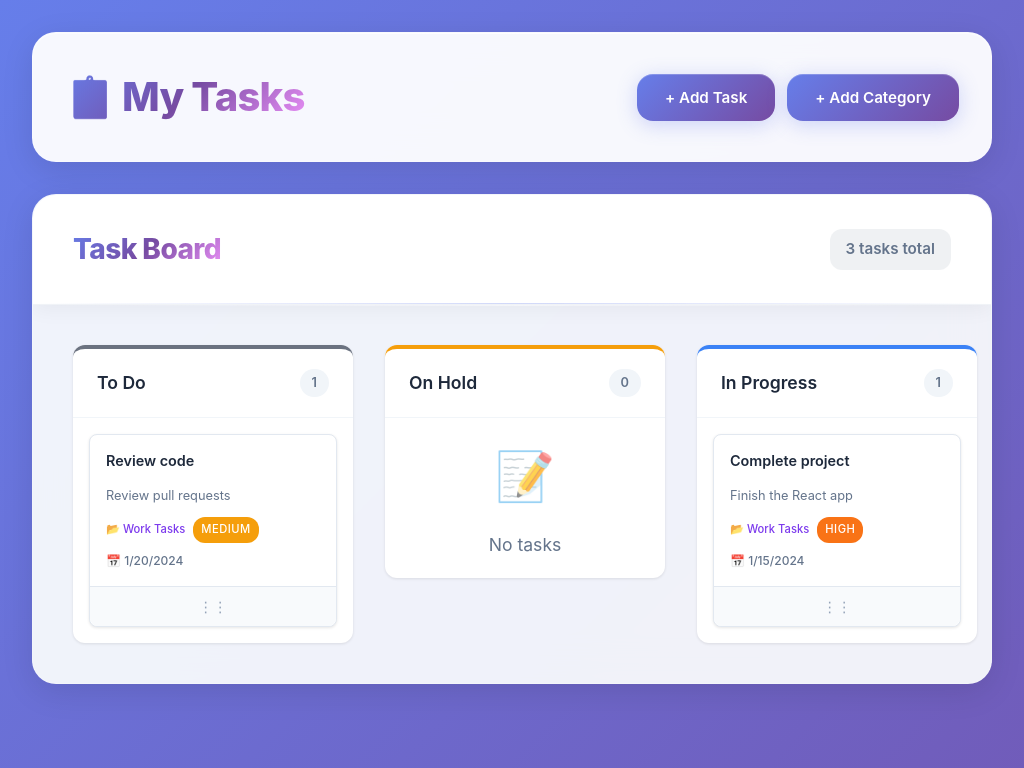
Test: Dashboard › should show add category form when Add Category button is clicked
The width and height of the screenshot is (1024, 768).
Step 1. Click the button "+ Add Category" → (873, 97), box [787,74,959,120]
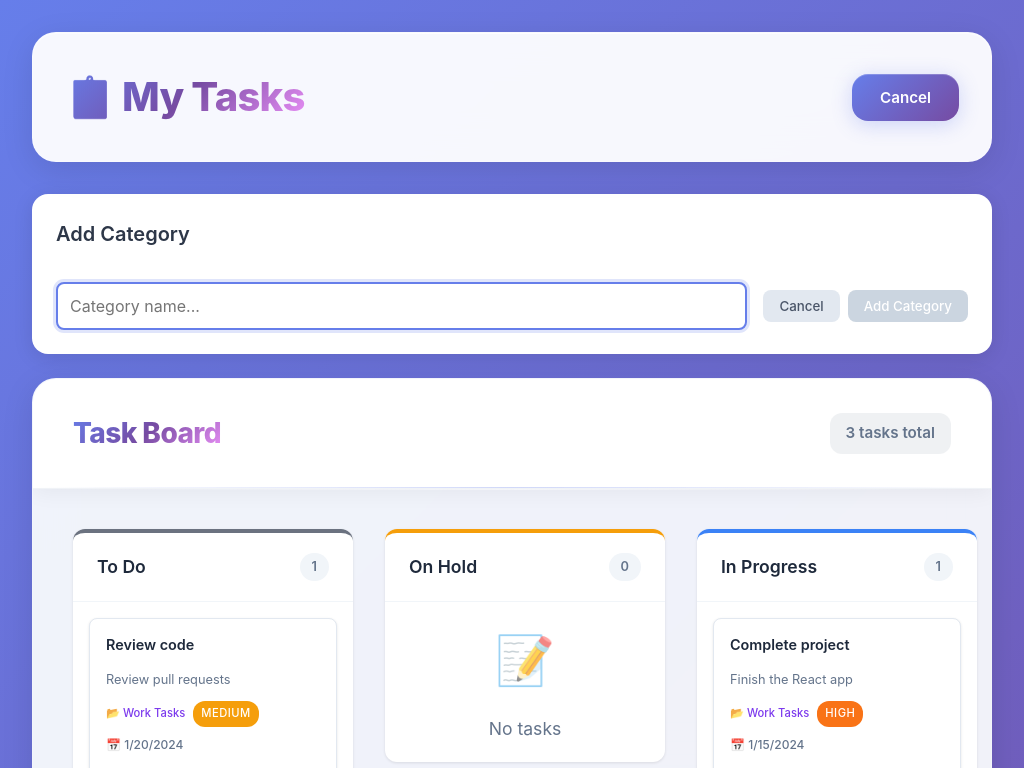
Expected: the field with placeholder "Category name..." is shown, [56,282,748,330]
